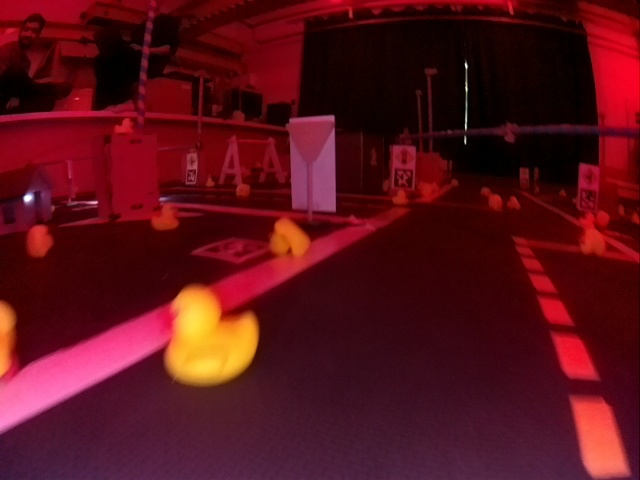Duckie: (165, 288, 257, 362), (277, 218, 310, 254), (28, 226, 52, 257), (153, 205, 179, 227), (394, 191, 407, 206), (490, 196, 501, 209), (507, 198, 520, 209)
Intersection sign: (580, 166, 600, 187)
QR code: (189, 237, 267, 265), (393, 169, 414, 185), (580, 191, 597, 210)
